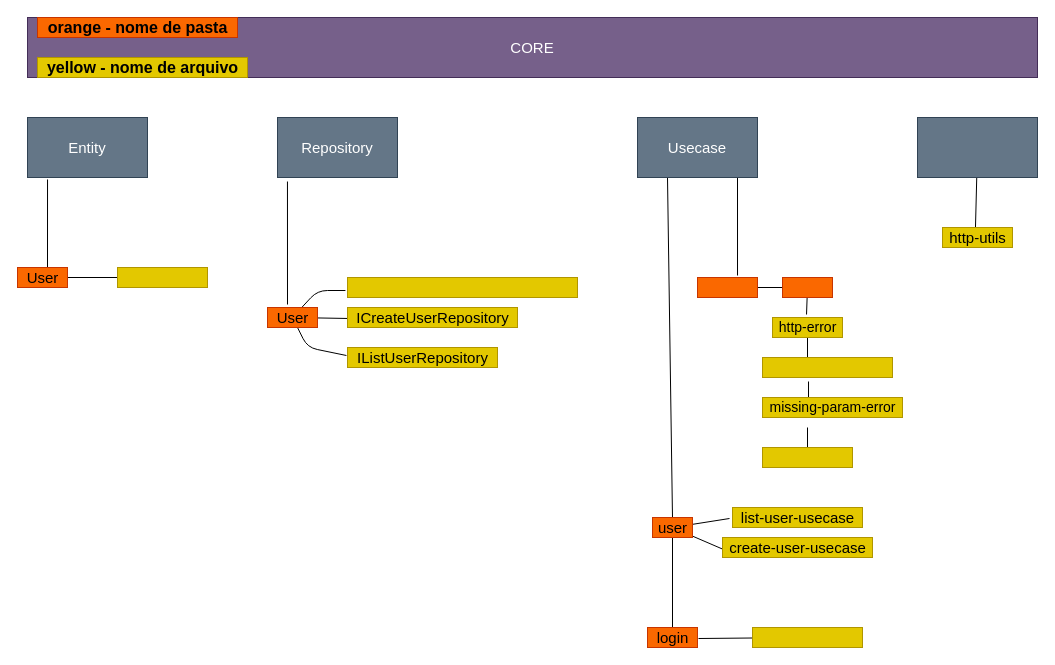
This 1055x665 diagram has some shape labels left out. The shapes that lost their labels are listed below. From the top down, each one's centre as x and y in pixels, then its label:
At point (977, 147): "util".
At point (162, 277): "ClasseUser".
At point (462, 287): "IGetUserByUsernameRepository".
At point (727, 287): "helper".
At point (807, 287): "errors".
At point (827, 367): "invalid-param-error".
At point (807, 457): "server-error".
At point (807, 637): "login-usecase".
